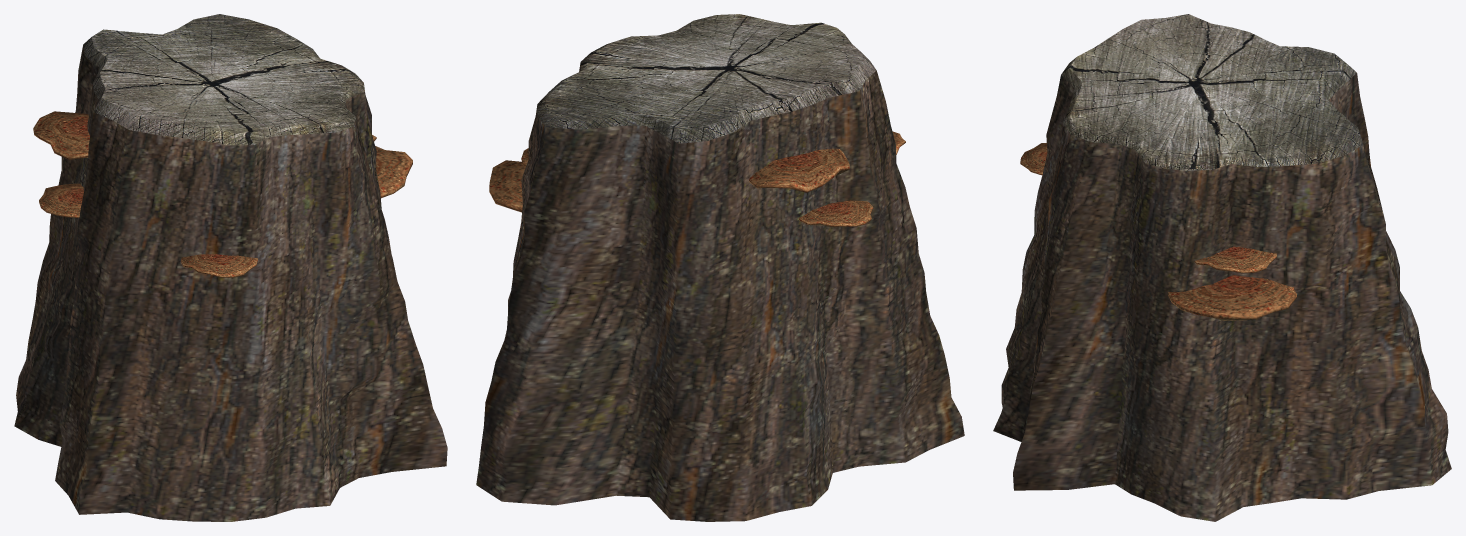
Rendered from Penek_3.FBX.
3 views of the same model, side by side, from view 1: azimuth 30°, elevation 25°; view 2: azimuth 150°, elevation 25°; view 3: azimuth 270°, elevation 25° (orthographic). The views are drawn at different scales.
Parts seen in each view (by area): view 1: Stvolw, Mushrooms; view 2: Stvolw, Mushrooms; view 3: Stvolw, Mushrooms.
Part boxes in pixels (x1,y1,x2,y2): Stvolw: (14, 14, 447, 521); Mushrooms: (33, 111, 412, 277); Stvolw: (476, 14, 964, 521); Mushrooms: (489, 131, 905, 227); Stvolw: (993, 14, 1451, 521); Mushrooms: (1020, 143, 1296, 320).
Bounding box in the file's own units: 0.8803 × 0.911 × 0.7842.
Materials: 3 (3 with a texture image).
